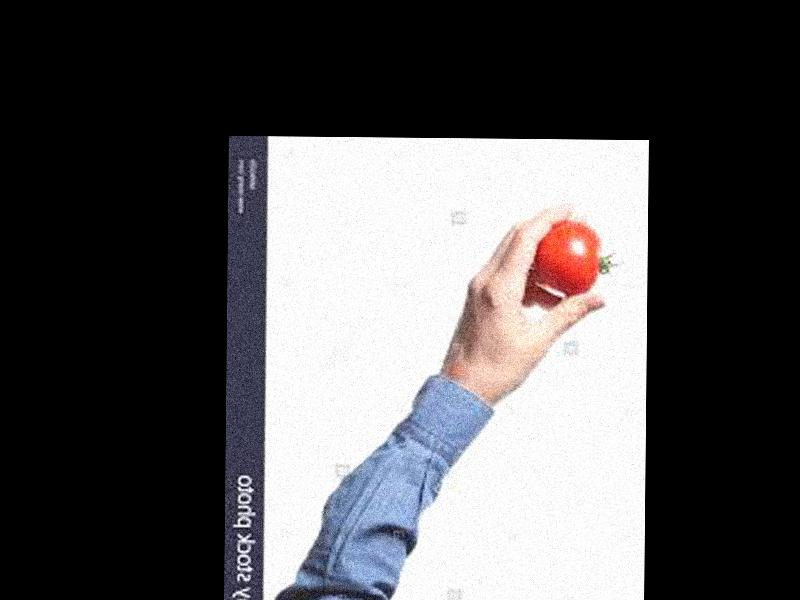Tomato: (537, 219, 599, 293)
